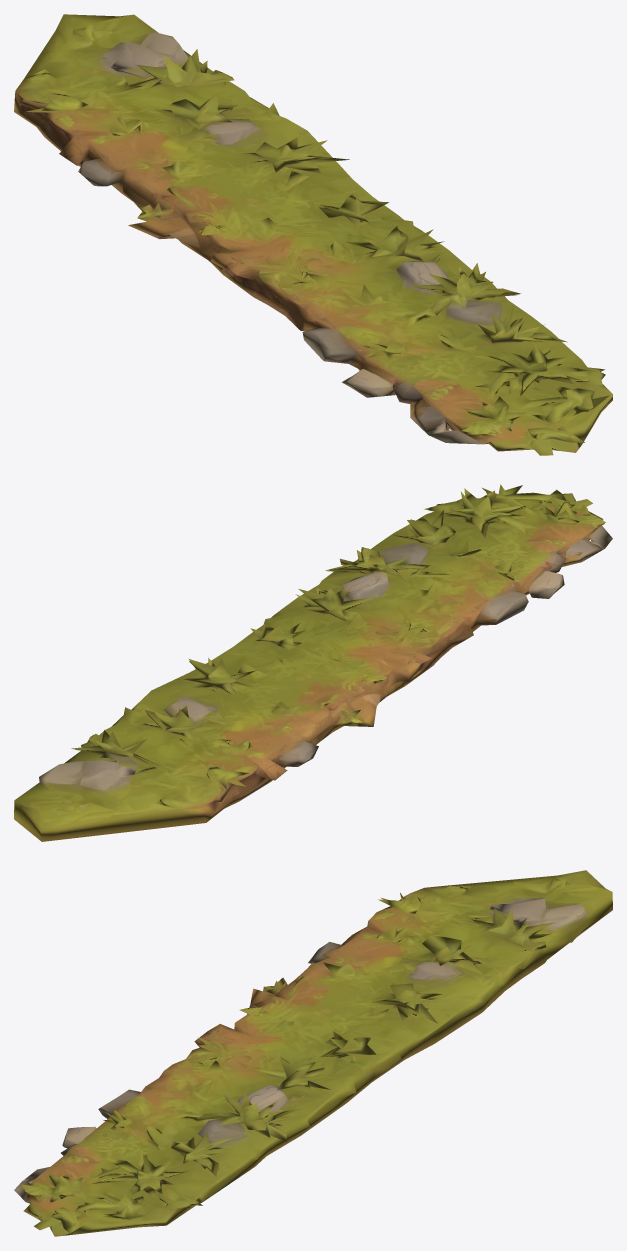
Rendered from tripo_grass_soil_border.glb.
3 renders of one model, top to bottom at view 1: azimuth 30°, elevation 25°; view 2: azimuth 150°, elevation 25°; view 3: azimuth 330°, elevation 25°, orthographic. The views are drawn at different scales.
Visible parts, largest first — view 1: grass_soil_border; view 2: grass_soil_border; view 3: grass_soil_border.
Part boxes in pixels (x1,y1,x2,y2): grass_soil_border: (14,14,612,455); grass_soil_border: (14,484,612,841); grass_soil_border: (14,870,612,1236).
Bounding box in the file's own units: 0.9 × 0.18 × 4.
1 material, 1 textured.
